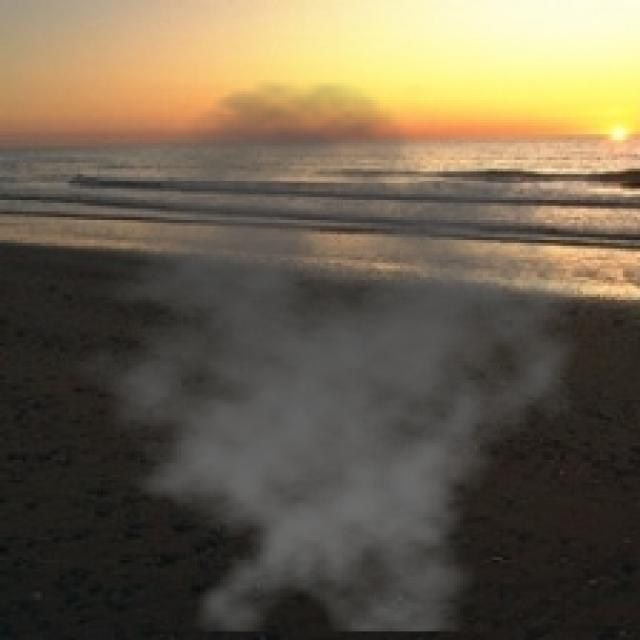smoke: (46, 80, 600, 631)
